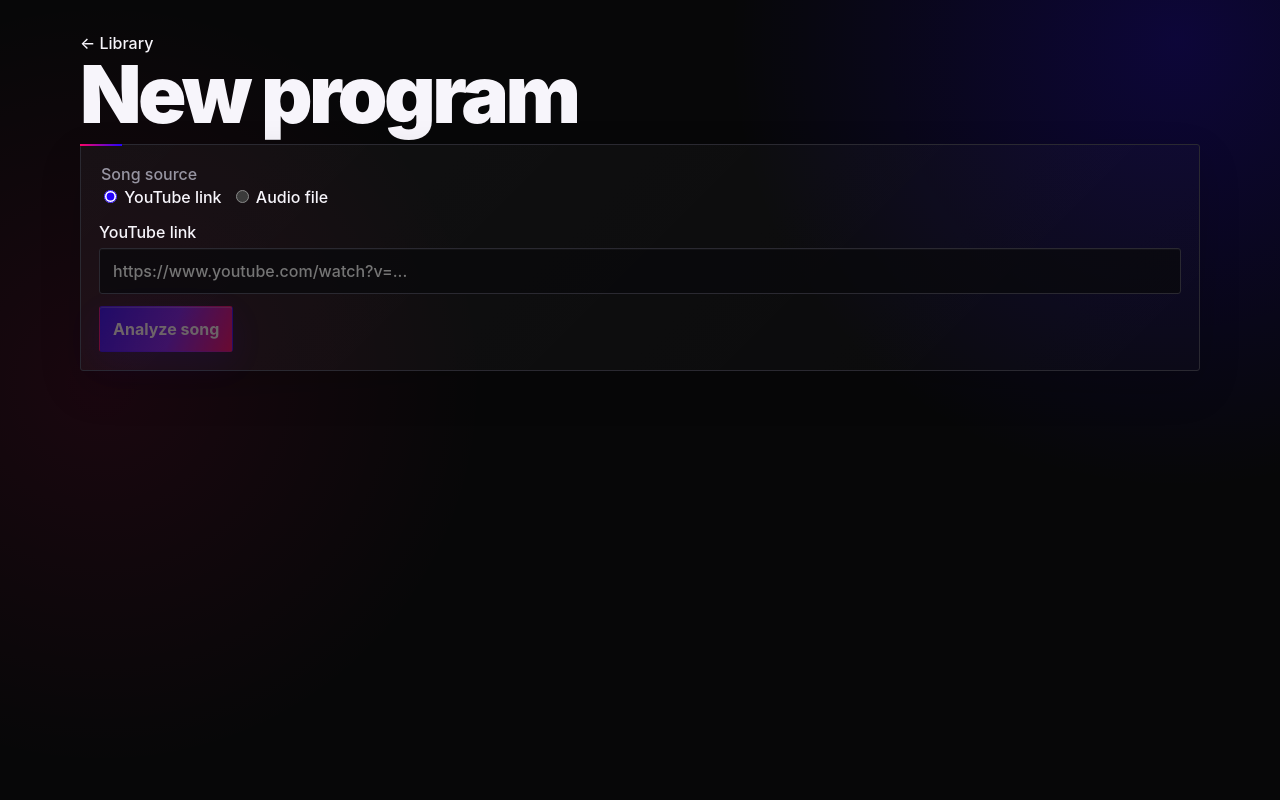
Test: App › a failed analysis shows the error and a way back
Type "https://youtu.be/dQw4w9WgXcQ" into the field labelled "YouTube link" at (640, 271), box [99,248,1181,294]
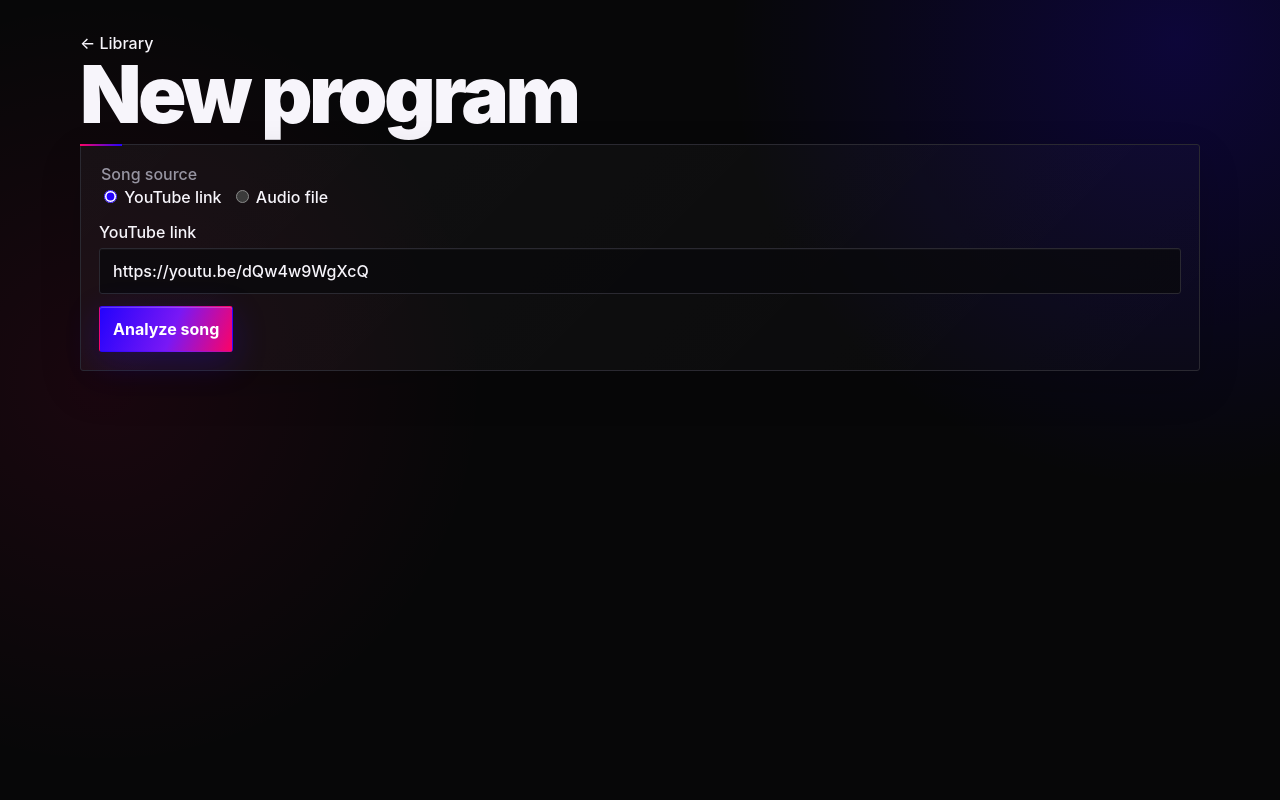
Click the button "Analyze song" at (166, 329), box [99,306,233,352]
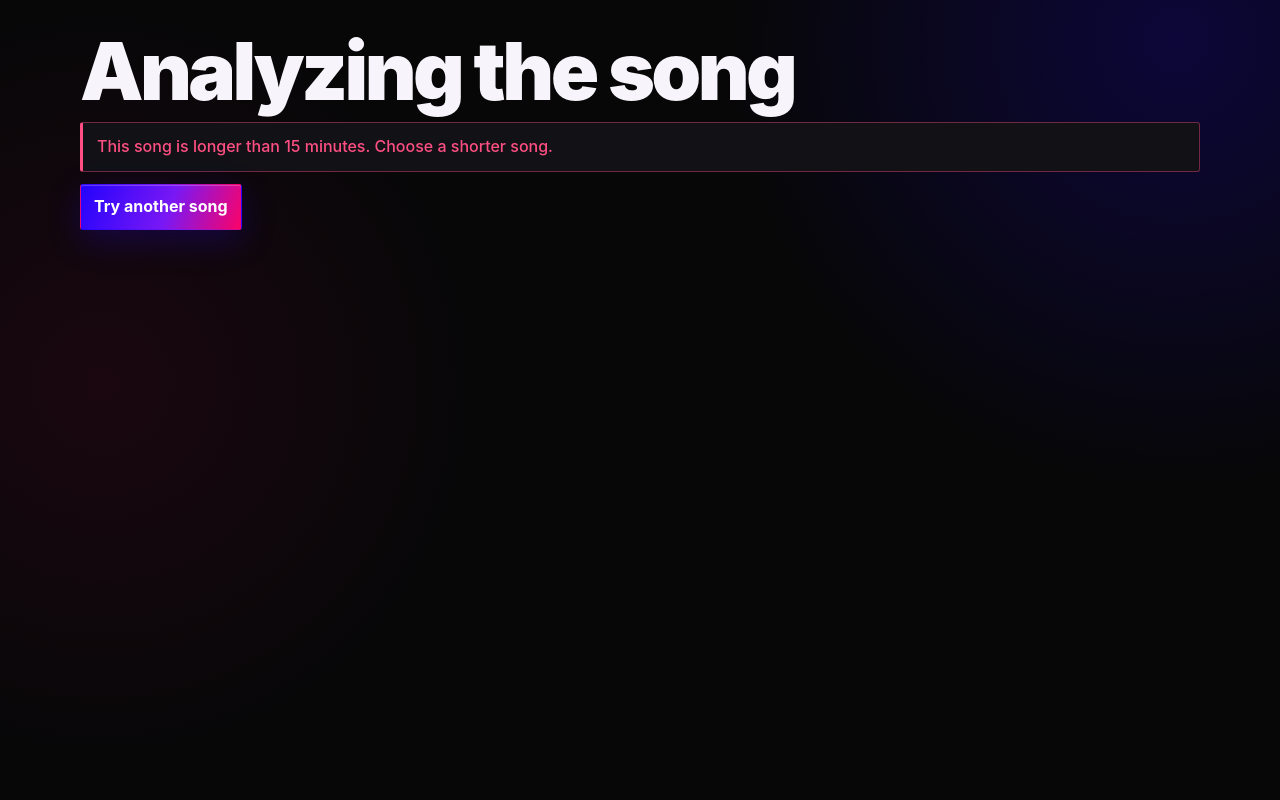
Expected: the button "Try another song" is shown, [80,184,242,230]
